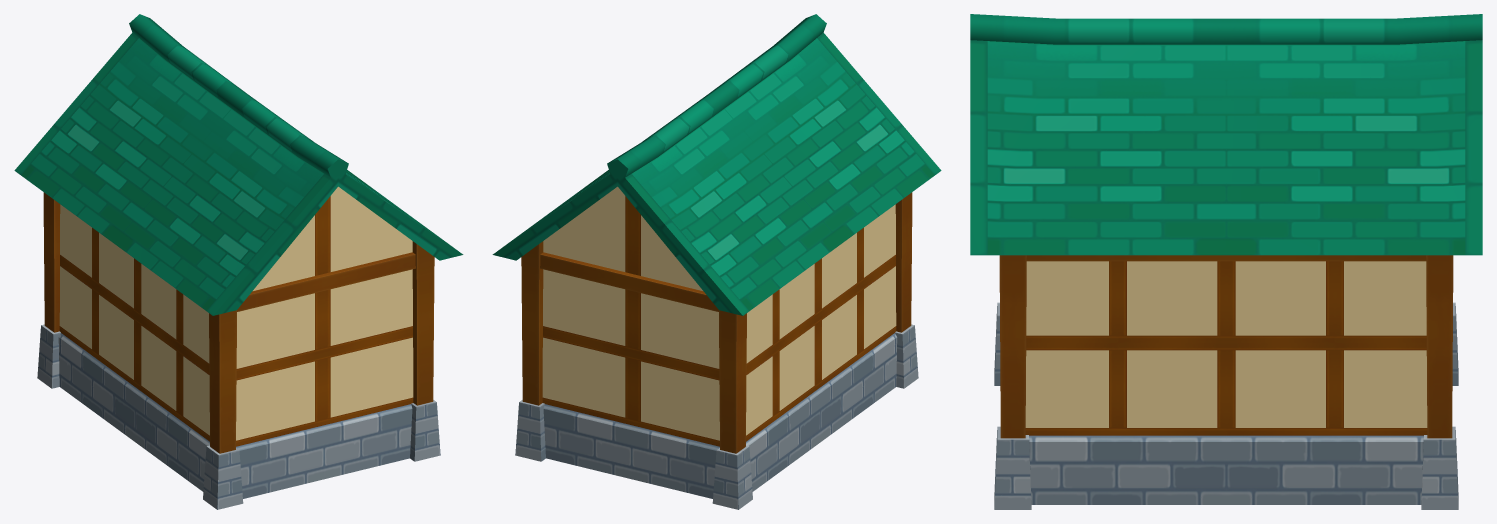
Rendered from HOS0310004.fbx.
The picture shows the model from 3 angles, left to right: view 1: azimuth 30°, elevation 25°; view 2: azimuth 150°, elevation 25°; view 3: azimuth 270°, elevation 25°; orthographic projection. The views are drawn at different scales.
Visible parts, largest first — view 1: smHOS0310004; view 2: smHOS0310004; view 3: smHOS0310004.
Boxes of the visible parts, x1,y1,x2,y2 form: smHOS0310004: [14, 14, 463, 509]; smHOS0310004: [492, 14, 941, 509]; smHOS0310004: [970, 14, 1482, 509].
Bounding box in the file's own units: 286 × 360 × 392.
Materials: 1 (1 with a texture image).
